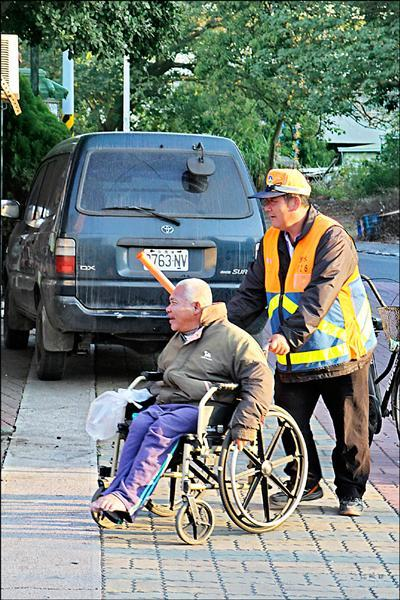push_wheelchair: (207, 167, 383, 515)
wheelchair: (92, 277, 307, 545)
